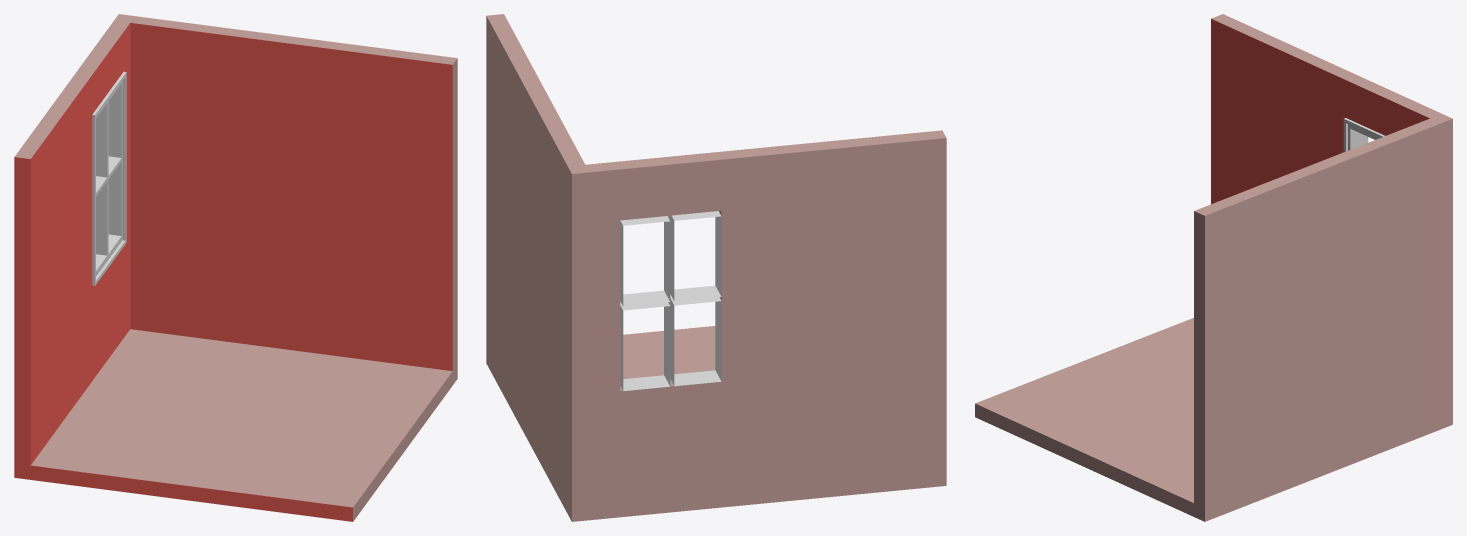
The model's file is Finale Version 16.glb.
3 views of the same model, side by side, from view 1: azimuth 30°, elevation 25°; view 2: azimuth 150°, elevation 25°; view 3: azimuth 270°, elevation 25° (orthographic). The views are drawn at different scales.
Visible parts, largest first — view 1: Body; view 2: Body; view 3: Body.
Boxes of the visible parts, x1,y1,x2,y2 form: Body: (14, 14, 457, 521); Body: (486, 14, 946, 521); Body: (975, 14, 1452, 521).
Size of the model in its own units: 27.58 by 19.49 by 27.58.
